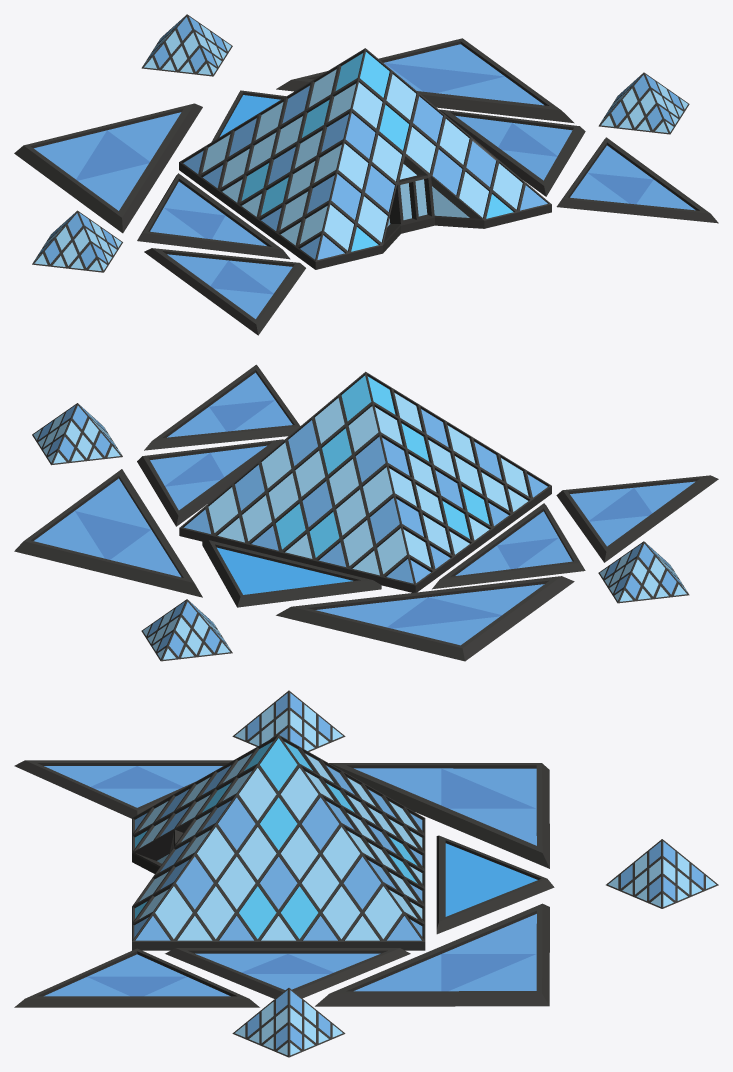
The model's file is dibiao_lufugong.fbx.
3 views of the same model, one above another, from view 1: azimuth 30°, elevation 25°; view 2: azimuth 150°, elevation 25°; view 3: azimuth 270°, elevation 25° (orthographic). The views are drawn at different scales.
Parts seen in each view (by area): view 1: dibiao_lufugong; view 2: dibiao_lufugong; view 3: dibiao_lufugong.
Boxes of the visible parts, bbox=[...] form: dibiao_lufugong: bbox=[14, 14, 718, 335]; dibiao_lufugong: bbox=[14, 364, 718, 661]; dibiao_lufugong: bbox=[14, 690, 718, 1057].
Size of the model in its own units: 9211 by 7952 by 1918.
